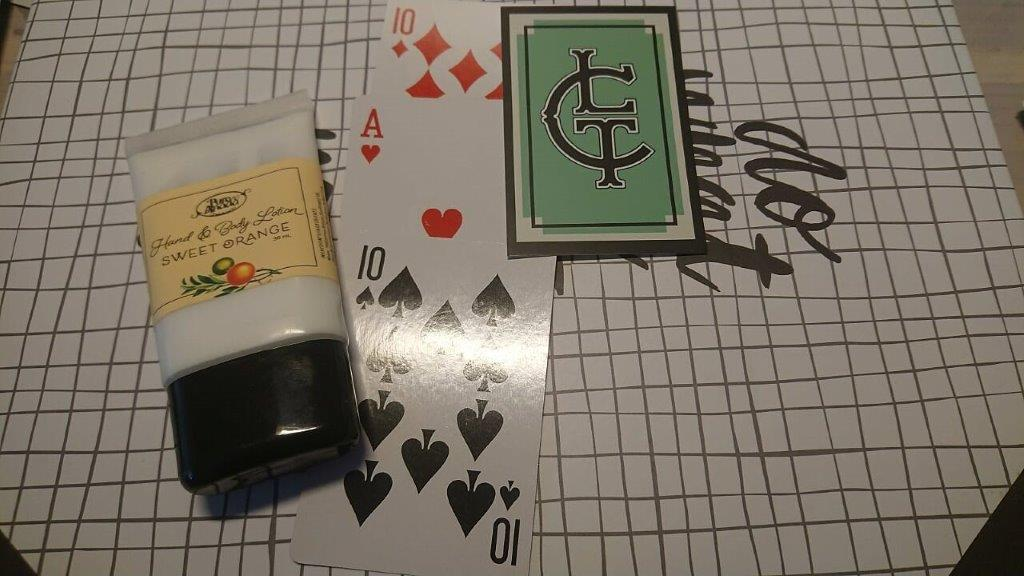10D: (387, 2, 419, 60)
10S: (351, 240, 388, 313)
AH: (357, 104, 386, 168)
